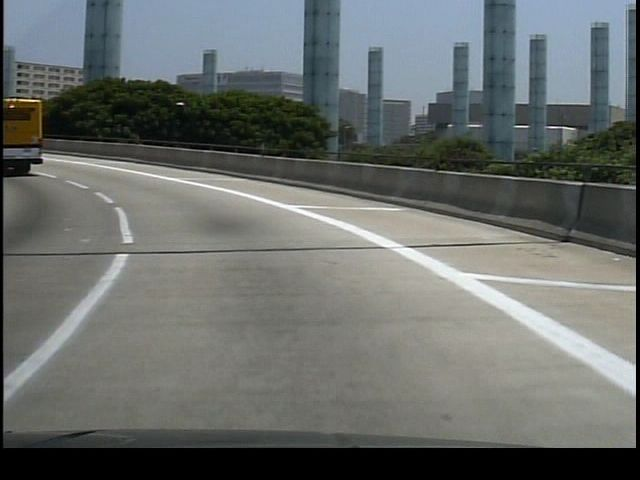strada: (4, 179, 640, 447)
